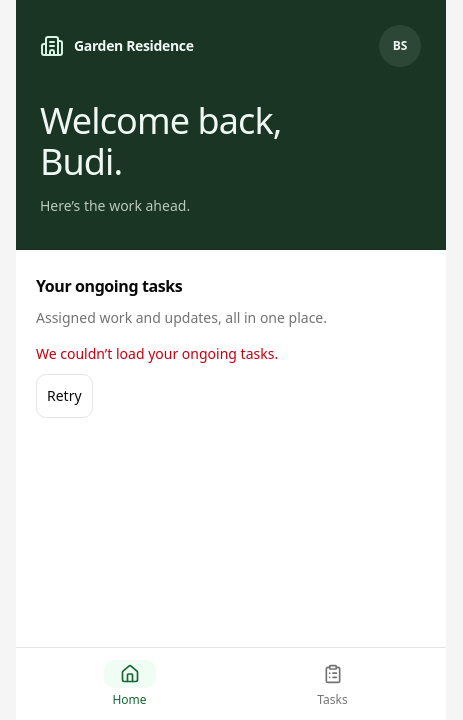
Test case: shows a load error with explicit retry and no automatic retries
expect the text "We couldn’t load your ongoing tasks." is shown: met, box x1=36 y1=344 x2=278 y2=363
Click the button "Retry". click: (64, 396)
box: x1=36 y1=374 x2=93 y2=418
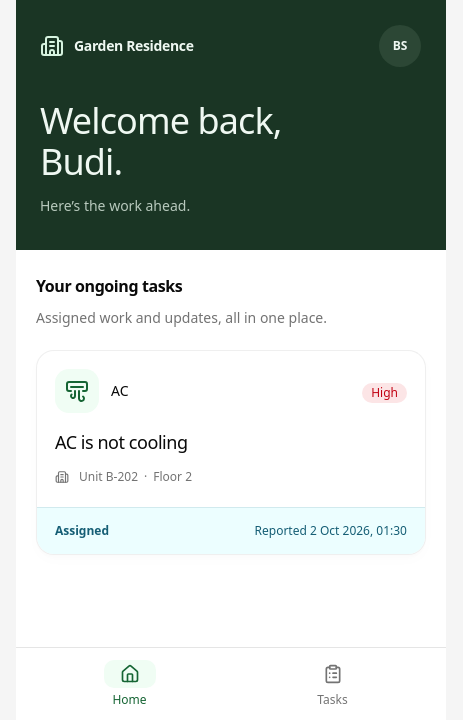
expect the heading "AC is not cooling" is shown: met, box x1=55 y1=430 x2=188 y2=454
